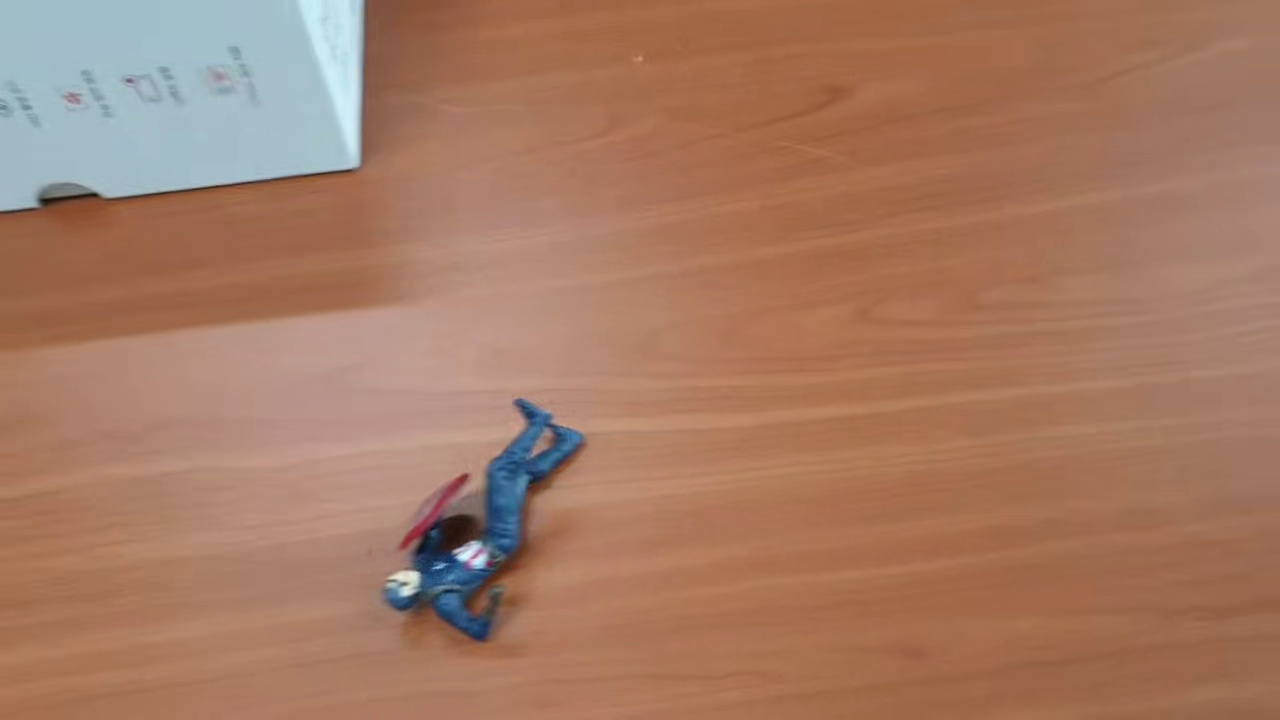people: (382, 393, 584, 644)
